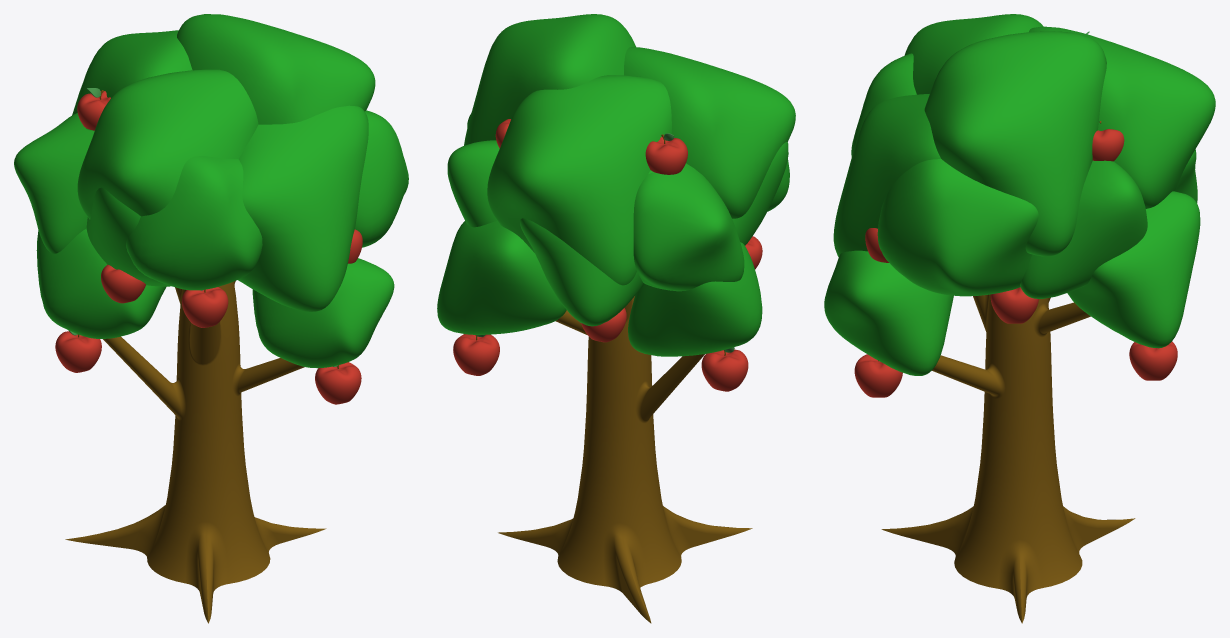
File: apple tree enemy colored.fbx
The picture shows the model from 3 angles, left to right: view 1: azimuth 30°, elevation 25°; view 2: azimuth 150°, elevation 25°; view 3: azimuth 270°, elevation 25°; orthographic projection. The views are drawn at different scales.
Visible parts, largest first — view 1: Body11, Body6, Body1 (×5); view 2: Body11, Body6, Body1 (×4); view 3: Body11, Body6, Body1 (×4).
Part boxes in pixels (box(x1,y1,x2,y2)): Body11: box(14, 14, 408, 368); Body6: box(65, 281, 326, 623); Body1 (×5): box(55, 91, 361, 404); Body11: box(437, 14, 795, 356); Body6: box(498, 296, 752, 623); Body1 (×4): box(453, 137, 748, 391); Body11: box(824, 14, 1215, 375); Body6: box(881, 294, 1135, 623); Body1 (×4): box(854, 129, 1177, 397).
Size of the model in its own units: 3417 by 5401 by 3525.
